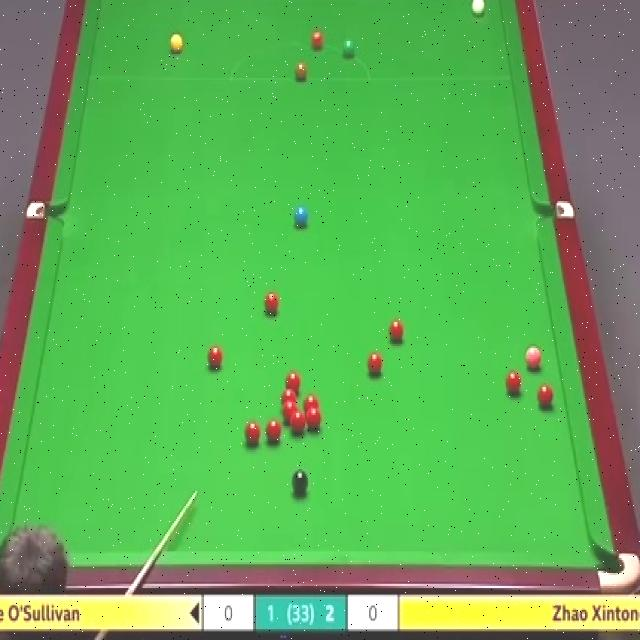black-ball: (292, 468, 308, 496)
blue-ball: (294, 205, 308, 225)
brown-ball: (294, 63, 308, 80)
green-ball: (344, 42, 358, 64)
pink-ball: (524, 346, 544, 372)
red-ball: (504, 368, 524, 396), (262, 293, 283, 318), (290, 411, 306, 438), (536, 382, 554, 406), (306, 408, 323, 430), (245, 421, 261, 444), (207, 346, 223, 368), (266, 419, 281, 442), (366, 353, 381, 376), (282, 404, 296, 424), (287, 371, 299, 394), (390, 321, 403, 342), (304, 394, 318, 413), (282, 392, 296, 410), (311, 30, 323, 51)
white-ball: (470, 0, 486, 15)
yellow-ball: (169, 32, 183, 54)
